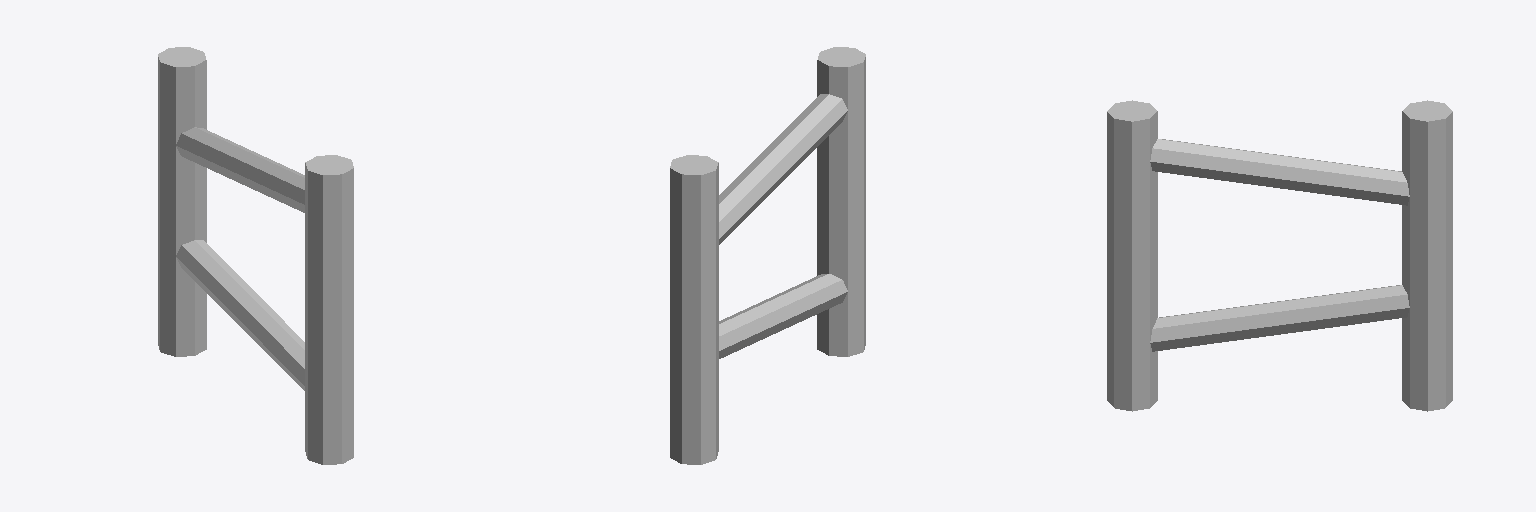
The model's file is ladder_segment.obj.
3 renders of one model, left to right at view 1: azimuth 30°, elevation 25°; view 2: azimuth 150°, elevation 25°; view 3: azimuth 270°, elevation 25°, orthographic.
Visible parts, largest first — view 1: ladder_segment; view 2: ladder_segment; view 3: ladder_segment.
Part boxes in pixels (bbox=[...]): ladder_segment: bbox=[158, 47, 353, 464]; ladder_segment: bbox=[670, 47, 865, 464]; ladder_segment: bbox=[1107, 100, 1452, 411].
Size of the model in its own units: 0.3158 by 2 by 2.16.